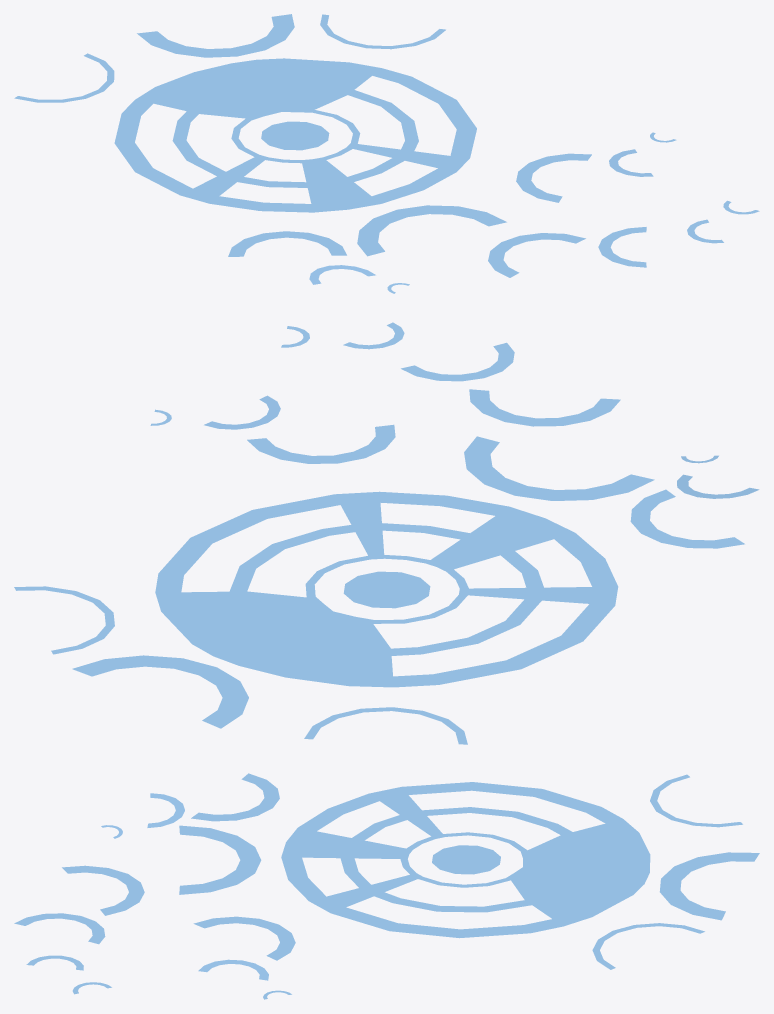
The model's file is enemy2.fbx.
3 views of the same model, one above another, from view 1: azimuth 30°, elevation 25°; view 2: azimuth 150°, elevation 25°; view 3: azimuth 270°, elevation 25° (orthographic). The views are drawn at different scales.
Visible parts, largest first — view 1: Circle.002, Circle.005, Circle.013, Circle.012, Circle.014, Circle.000, Circle.011, Circle.003, Circle.004; view 2: Circle.002, Circle.005, Circle.013, Circle.012, Circle.000, Circle.014, Circle.011, Circle.004, Circle.003; view 3: Circle.002, Circle.005, Circle.013, Circle.012, Circle.000, Circle.014, Circle.011, Circle.004, Circle.003, Circle.007, Circle.006.
Part boxes in pixels (<box>): Circle.002: <box>114,58,476,212</box>; Circle.005: <box>137,14,294,57</box>; Circle.013: <box>357,205,506,256</box>; Circle.012: <box>488,233,585,277</box>; Circle.014: <box>228,231,346,256</box>; Circle.000: <box>516,153,591,202</box>; Circle.011: <box>598,227,646,267</box>; Circle.003: <box>14,53,114,102</box>; Circle.004: <box>320,14,445,49</box>; Circle.002: <box>155,491,618,687</box>; Circle.005: <box>72,655,248,728</box>; Circle.013: <box>464,436,654,500</box>; Circle.012: <box>469,389,620,426</box>; Circle.000: <box>247,424,395,463</box>; Circle.014: <box>630,489,744,548</box>; Circle.011: <box>401,342,514,381</box>; Circle.004: <box>14,586,114,654</box>; Circle.003: <box>304,707,467,744</box>; Circle.002: <box>281,782,650,938</box>; Circle.005: <box>659,852,759,920</box>; Circle.013: <box>179,825,261,894</box>; Circle.012: <box>62,865,144,915</box>; Circle.000: <box>193,916,295,960</box>; Circle.014: <box>191,773,279,821</box>; Circle.011: <box>14,913,105,944</box>; Circle.004: <box>592,923,704,969</box>; Circle.003: <box>650,774,742,827</box>; Circle.007: <box>147,793,184,827</box>; Circle.006: <box>198,959,268,980</box>.
Size of the model in its own units: 289 by 5.31 by 403.
